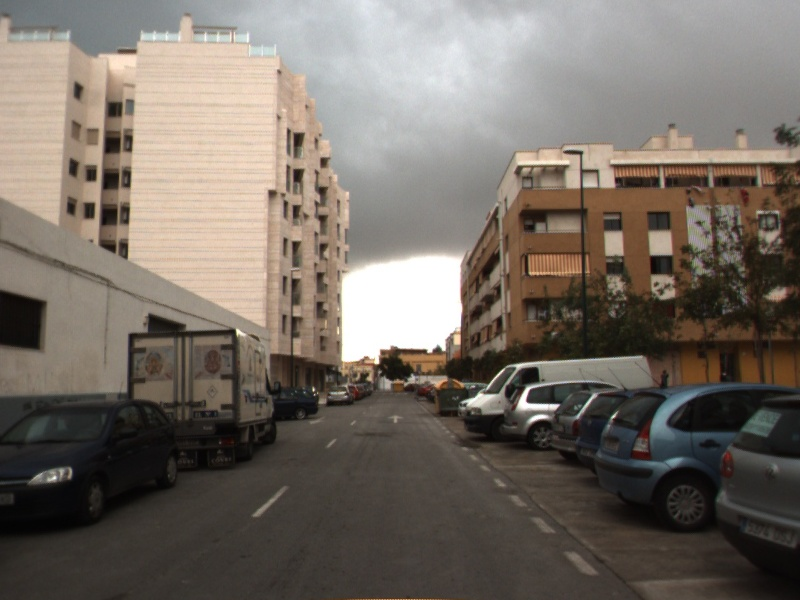STRAIGHT: (385, 412, 407, 426)
